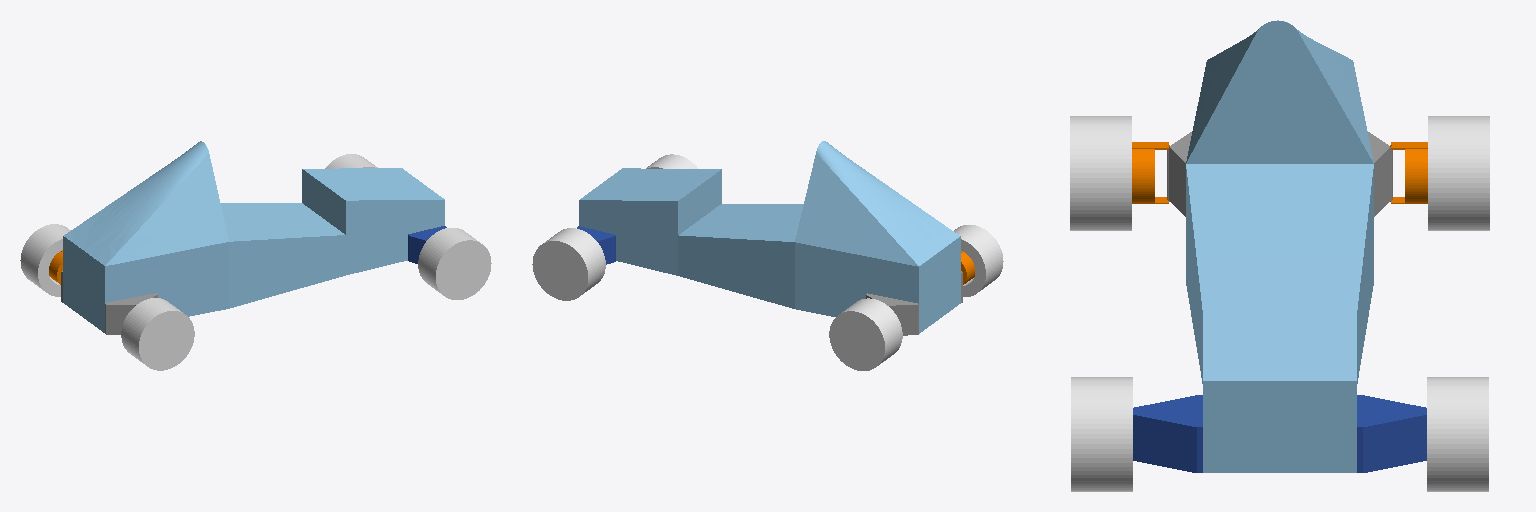
robot.urdf — avone:
<?xml version="1.0" ?>
<!-- Generated using onshape-to-robot -->
<!-- Onshape document_id: a464551bdec68fb8eb43a656 -->
<robot name="avone">
  <!-- Link chassis_suspension -->
  <link name="chassis_suspension">
    <inertial>
      <origin xyz="0.812063 -0.000266118 0.127823" rpy="0 0 0"/>
      <mass value="152"/>
      <inertia ixx="16.787" ixy="-0.0144134" ixz="2.17886" iyy="94.5857" iyz="0.0189829" izz="101.287"/>
    </inertial>
    <!-- Part rear_wheel_hub -->
    <visual>
      <origin xyz="-0.181377 0.297001 -0.105" rpy="6.30462e-15 -0 -6.18615e-05"/>
      <geometry>
        <mesh filename="package://avone/avonemodel/assets/rear_wheel_hub.stl"/>
      </geometry>
      <material name="rear_wheel_hub_material">
        <color rgba="0.972549 0.529412 0.00392157 1.0"/>
      </material>
    </visual>
    <collision>
      <origin xyz="-0.181377 0.297001 -0.105" rpy="6.30462e-15 -0 -6.18615e-05"/>
      <geometry>
        <mesh filename="package://avone/avonemodel/assets/rear_wheel_hub.stl"/>
      </geometry>
    </collision>
    <!-- Part rear_wheel_hub_2 -->
    <visual>
      <origin xyz="0.181423 -0.296978 -0.105" rpy="3.10966e-15 7.00787e-15 -3.14153"/>
      <geometry>
        <mesh filename="package://avone/avonemodel/assets/rear_wheel_hub.stl"/>
      </geometry>
      <material name="rear_wheel_hub_2_material">
        <color rgba="0.972549 0.529412 0.00392157 1.0"/>
      </material>
    </visual>
    <collision>
      <origin xyz="0.181423 -0.296978 -0.105" rpy="3.10966e-15 7.00787e-15 -3.14153"/>
      <geometry>
        <mesh filename="package://avone/avonemodel/assets/rear_wheel_hub.stl"/>
      </geometry>
    </collision>
    <!-- Part rear_suspension -->
    <visual>
      <origin xyz="-0.17247 -0.28192 0.105" rpy="3.14159 5.47382e-48 -0.0851102"/>
      <geometry>
        <mesh filename="package://avone/avonemodel/assets/rear_suspension.stl"/>
      </geometry>
      <material name="rear_suspension_material">
        <color rgba="0.647059 0.647059 0.647059 1.0"/>
      </material>
    </visual>
    <collision>
      <origin xyz="-0.17247 -0.28192 0.105" rpy="3.14159 5.47382e-48 -0.0851102"/>
      <geometry>
        <mesh filename="package://avone/avonemodel/assets/rear_suspension.stl"/>
      </geometry>
    </collision>
    <!-- Part rear_suspension_2 -->
    <visual>
      <origin xyz="0.189017 0.312761 0.105" rpy="-3.14159 2.33363e-61 -3.05648"/>
      <geometry>
        <mesh filename="package://avone/avonemodel/assets/rear_suspension.stl"/>
      </geometry>
      <material name="rear_suspension_2_material">
        <color rgba="0.647059 0.647059 0.647059 1.0"/>
      </material>
    </visual>
    <collision>
      <origin xyz="0.189017 0.312761 0.105" rpy="-3.14159 2.33363e-61 -3.05648"/>
      <geometry>
        <mesh filename="package://avone/avonemodel/assets/rear_suspension.stl"/>
      </geometry>
    </collision>
    <!-- Part chassis -->
    <visual>
      <origin xyz="2.2924 -0.00985747 0.0751" rpy="3.14159 -0 1.5708"/>
      <geometry>
        <mesh filename="package://avone/avonemodel/assets/chassis.stl"/>
      </geometry>
      <material name="chassis_material">
        <color rgba="0.615686 0.811765 0.929412 1.0"/>
      </material>
    </visual>
    <collision>
      <origin xyz="2.2924 -0.00985747 0.0751" rpy="3.14159 -0 1.5708"/>
      <geometry>
        <mesh filename="package://avone/avonemodel/assets/chassis.stl"/>
      </geometry>
    </collision>
    <!-- Part front_suspension -->
    <visual>
      <origin xyz="2.0208 0.2935 0.075" rpy="3.14159 -1.54112e-16 1.5708"/>
      <geometry>
        <mesh filename="package://avone/avonemodel/assets/front_suspension.stl"/>
      </geometry>
      <material name="front_suspension_material">
        <color rgba="0.231373 0.380392 0.705882 1.0"/>
      </material>
    </visual>
    <collision>
      <origin xyz="2.0208 0.2935 0.075" rpy="3.14159 -1.54112e-16 1.5708"/>
      <geometry>
        <mesh filename="package://avone/avonemodel/assets/front_suspension.stl"/>
      </geometry>
    </collision>
    <!-- Part front_suspension_2 -->
    <visual>
      <origin xyz="2.2924 -0.2935 0.075" rpy="-3.14159 1.54112e-16 -1.5708"/>
      <geometry>
        <mesh filename="package://avone/avonemodel/assets/front_suspension.stl"/>
      </geometry>
      <material name="front_suspension_2_material">
        <color rgba="0.231373 0.380392 0.705882 1.0"/>
      </material>
    </visual>
    <collision>
      <origin xyz="2.2924 -0.2935 0.075" rpy="-3.14159 1.54112e-16 -1.5708"/>
      <geometry>
        <mesh filename="package://avone/avonemodel/assets/front_suspension.stl"/>
      </geometry>
    </collision>
  </link>
  <!-- Link wheel -->
  <link name="wheel">
    <inertial>
      <origin xyz="-8.09407e-17 -1.33567e-17 0.0496398" rpy="0 0 0"/>
      <mass value="9.8"/>
      <inertia ixx="0.169474" ixy="2.12205e-15" ixz="6.60536e-16" iyy="0.169474" iyz="1.10915e-15" izz="0.253875"/>
    </inertial>
    <!-- Part wheel -->
    <visual>
      <origin xyz="-8.09391e-17 7.65875e-18 0.17" rpy="1.5708 -3.89756e-15 3.70519e-15"/>
      <geometry>
        <mesh filename="package://avone/avonemodel/assets/wheel.stl"/>
      </geometry>
      <material name="wheel_material">
        <color rgba="0.917647 0.917647 0.917647 1.0"/>
      </material>
    </visual>
    <collision>
      <origin xyz="-8.09391e-17 7.65875e-18 0.17" rpy="1.5708 -3.89756e-15 3.70519e-15"/>
      <geometry>
        <mesh filename="package://avone/avonemodel/assets/wheel.stl"/>
      </geometry>
    </collision>
  </link>
  <!-- Joint from chassis_suspension to wheel -->
  <joint name="RLMotor" type="revolute">
    <origin xyz="4.71381e-05 0.693977 3.30291e-15" rpy="1.5708 -0 -6.18615e-05"/>
    <parent link="chassis_suspension"/>
    <child link="wheel"/>
    <axis xyz="0 0 1"/>
    <limit effort="10" velocity="10" lower="-3.141592653589793" upper="3.141592653589793"/>
  </joint>
  <!-- Link wheel_2 -->
  <link name="wheel_2">
    <inertial>
      <origin xyz="-1.66794e-17 -1.33614e-17 0.0496398" rpy="0 0 0"/>
      <mass value="9.8"/>
      <inertia ixx="0.169474" ixy="1.1918e-15" ixz="-3.1455e-16" iyy="0.169474" iyz="5.0174e-16" izz="0.253875"/>
    </inertial>
    <!-- Part wheel_2 -->
    <visual>
      <origin xyz="-1.59877e-17 7.65404e-18 0.17" rpy="1.5708 1.86465e-15 -5.13481e-16"/>
      <geometry>
        <mesh filename="package://avone/avonemodel/assets/wheel.stl"/>
      </geometry>
      <material name="wheel_2_material">
        <color rgba="0.917647 0.917647 0.917647 1.0"/>
      </material>
    </visual>
    <collision>
      <origin xyz="-1.59877e-17 7.65404e-18 0.17" rpy="1.5708 1.86465e-15 -5.13481e-16"/>
      <geometry>
        <mesh filename="package://avone/avonemodel/assets/wheel.stl"/>
      </geometry>
    </collision>
  </link>
  <!-- Joint from chassis_suspension to wheel_2 -->
  <joint name="RRMotor" type="revolute">
    <origin xyz="4.71381e-05 -0.693977 2.30371e-15" rpy="1.5708 7.00787e-15 -3.14153"/>
    <parent link="chassis_suspension"/>
    <child link="wheel_2"/>
    <axis xyz="0 0 1"/>
    <limit effort="10" velocity="10" lower="-3.141592653589793" upper="3.141592653589793"/>
  </joint>
  <!-- Link front_wheel_hub -->
  <link name="front_wheel_hub">
    <inertial>
      <origin xyz="0.0824722 -5.82867e-16 0.09" rpy="0 0 0"/>
      <mass value="1.6"/>
      <inertia ixx="0.00734348" ixy="-1.63364e-18" ixz="-3.73248e-19" iyy="0.00420677" iyz="6.09249e-20" izz="0.00395986"/>
    </inertial>
    <!-- Part front_wheel_hub -->
    <visual>
      <origin xyz="-0.290639 0.1358 0.18" rpy="-3.14159 1.1031e-16 -5.55112e-17"/>
      <geometry>
        <mesh filename="package://avone/avonemodel/assets/front_wheel_hub.stl"/>
      </geometry>
      <material name="front_wheel_hub_material">
        <color rgba="0.768627 0.886275 0.952941 1.0"/>
      </material>
    </visual>
    <collision>
      <origin xyz="-0.290639 0.1358 0.18" rpy="-3.14159 1.1031e-16 -5.55112e-17"/>
      <geometry>
        <mesh filename="package://avone/avonemodel/assets/front_wheel_hub.stl"/>
      </geometry>
    </collision>
  </link>
  <!-- Link wheel_3 -->
  <link name="wheel_3">
    <inertial>
      <origin xyz="1.09934e-17 -1.19492e-32 0.0496398" rpy="0 0 0"/>
      <mass value="9.8"/>
      <inertia ixx="0.169474" ixy="1.82963e-33" ixz="4.67592e-18" iyy="0.169474" iyz="9.43037e-33" izz="0.253875"/>
    </inertial>
    <!-- Part wheel_3 -->
    <visual>
      <origin xyz="0 0 0.17" rpy="1.5708 9.24446e-32 1.5708"/>
      <geometry>
        <mesh filename="package://avone/avonemodel/assets/wheel.stl"/>
      </geometry>
      <material name="wheel_3_material">
        <color rgba="0.917647 0.917647 0.917647 1.0"/>
      </material>
    </visual>
    <collision>
      <origin xyz="0 0 0.17" rpy="1.5708 9.24446e-32 1.5708"/>
      <geometry>
        <mesh filename="package://avone/avonemodel/assets/wheel.stl"/>
      </geometry>
    </collision>
  </link>
  <!-- Joint from front_wheel_hub to wheel_3 -->
  <joint name="FRwheel" type="revolute">
    <origin xyz="0.10836 -4.44089e-16 0.09" rpy="1.5708 2.46751e-16 -1.5708"/>
    <parent link="front_wheel_hub"/>
    <child link="wheel_3"/>
    <axis xyz="0 0 1"/>
    <limit effort="10" velocity="10" lower="-3.141592653589793" upper="3.141592653589793"/>
  </joint>
  <!-- Joint from chassis_suspension to front_wheel_hub -->
  <joint name="RSteer" type="revolute">
    <origin xyz="2.1566 -0.584139 0.075" rpy="-3.14159 1.54112e-16 -1.5708"/>
    <parent link="chassis_suspension"/>
    <child link="front_wheel_hub"/>
    <axis xyz="0 0 1"/>
    <limit effort="10" velocity="10" lower="-3.141592653589793" upper="3.141592653589793"/>
  </joint>
  <!-- Link front_wheel_hub_2 -->
  <link name="front_wheel_hub_2">
    <inertial>
      <origin xyz="0.0824722 -7.49401e-16 0.09" rpy="0 0 0"/>
      <mass value="1.6"/>
      <inertia ixx="0.00734348" ixy="-4.21008e-17" ixz="3.73248e-19" iyy="0.00420677" iyz="-6.18738e-20" izz="0.00395986"/>
    </inertial>
    <!-- Part front_wheel_hub_2 -->
    <visual>
      <origin xyz="-0.290639 0.1358 0.18" rpy="3.14159 -1.1031e-16 -1.385e-14"/>
      <geometry>
        <mesh filename="package://avone/avonemodel/assets/front_wheel_hub.stl"/>
      </geometry>
      <material name="front_wheel_hub_2_material">
        <color rgba="0.768627 0.886275 0.952941 1.0"/>
      </material>
    </visual>
    <collision>
      <origin xyz="-0.290639 0.1358 0.18" rpy="3.14159 -1.1031e-16 -1.385e-14"/>
      <geometry>
        <mesh filename="package://avone/avonemodel/assets/front_wheel_hub.stl"/>
      </geometry>
    </collision>
  </link>
  <!-- Link wheel_4 -->
  <link name="wheel_4">
    <inertial>
      <origin xyz="3.34067e-18 -2.62196e-17 0.0496398" rpy="0 0 0"/>
      <mass value="9.8"/>
      <inertia ixx="0.169474" ixy="-2.81054e-16" ixz="-7.22508e-15" iyy="0.169474" iyz="3.81768e-17" izz="0.253875"/>
    </inertial>
    <!-- Part wheel_4 -->
    <visual>
      <origin xyz="0 -5.20417e-18 0.17" rpy="1.5708 4.25909e-14 -1.07909e-15"/>
      <geometry>
        <mesh filename="package://avone/avonemodel/assets/wheel.stl"/>
      </geometry>
      <material name="wheel_4_material">
        <color rgba="0.917647 0.917647 0.917647 1.0"/>
      </material>
    </visual>
    <collision>
      <origin xyz="0 -5.20417e-18 0.17" rpy="1.5708 4.25909e-14 -1.07909e-15"/>
      <geometry>
        <mesh filename="package://avone/avonemodel/assets/wheel.stl"/>
      </geometry>
    </collision>
  </link>
  <!-- Joint from front_wheel_hub_2 to wheel_4 -->
  <joint name="FLWheel" type="revolute">
    <origin xyz="0.10836 -8.88178e-16 0.09" rpy="1.5708 -2.50594e-16 -1.5708"/>
    <parent link="front_wheel_hub_2"/>
    <child link="wheel_4"/>
    <axis xyz="0 0 1"/>
    <limit effort="10" velocity="10" lower="-3.141592653589793" upper="3.141592653589793"/>
  </joint>
  <!-- Joint from chassis_suspension to front_wheel_hub_2 -->
  <joint name="LSteer" type="revolute">
    <origin xyz="2.1566 0.584139 0.075" rpy="3.14159 -1.54112e-16 1.5708"/>
    <parent link="chassis_suspension"/>
    <child link="front_wheel_hub_2"/>
    <axis xyz="0 0 1"/>
    <limit effort="10" velocity="10" lower="-3.141592653589793" upper="3.141592653589793"/>
  </joint>
</robot>

--- What the picture shows (computed from the rendered views, not written in the file) ---
The picture shows the robot from 3 angles, left to right: view 1: azimuth 30°, elevation 25°; view 2: azimuth 150°, elevation 25°; view 3: azimuth 270°, elevation 25°; orthographic projection.
Robot: avone — 7 links, 6 joints (6 revolute); root link chassis_suspension; default pose: every joint at zero.
Visible links, largest first — view 1: chassis_suspension, wheel_2, wheel_3, wheel; view 2: chassis_suspension, wheel, wheel_4, wheel_2; view 3: chassis_suspension, wheel, wheel_2, wheel_3, wheel_4.
Boxes of the visible links, x1=… form: chassis_suspension: x1=49, y1=141, x2=446, y2=334; wheel_2: x1=121, y1=298, x2=194, y2=370; wheel_3: x1=418, y1=228, x2=491, y2=299; wheel: x1=20, y1=224, x2=70, y2=296; chassis_suspension: x1=577, y1=141, x2=974, y2=335; wheel: x1=829, y1=298, x2=902, y2=370; wheel_4: x1=532, y1=228, x2=605, y2=300; wheel_2: x1=954, y1=225, x2=1003, y2=296; chassis_suspension: x1=1132, y1=20, x2=1427, y2=472; wheel: x1=1428, y1=116, x2=1489, y2=230; wheel_2: x1=1070, y1=116, x2=1131, y2=230; wheel_3: x1=1071, y1=377, x2=1132, y2=491; wheel_4: x1=1427, y1=377, x2=1488, y2=491.
Bounding box of the posed robot: 2.56 × 1.49 × 1.14 m (x, y, z).
13 mesh visuals loaded from 6 distinct referenced files (6 binary STL).
